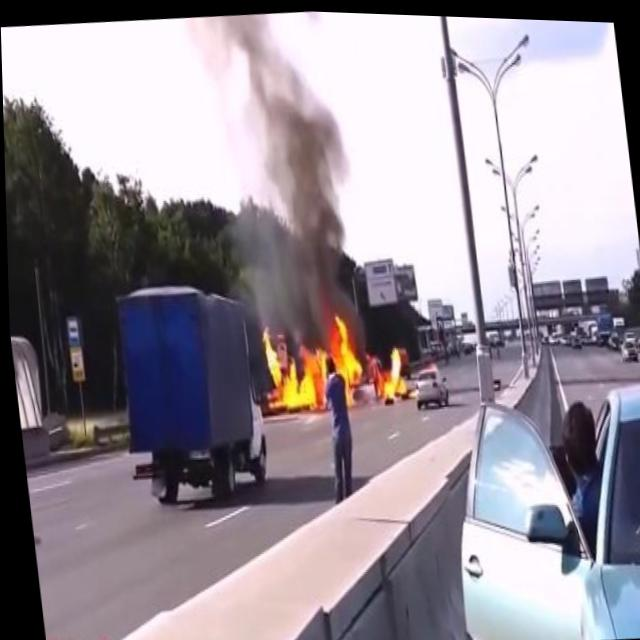fire: (252, 298, 367, 418), (373, 336, 410, 404)
